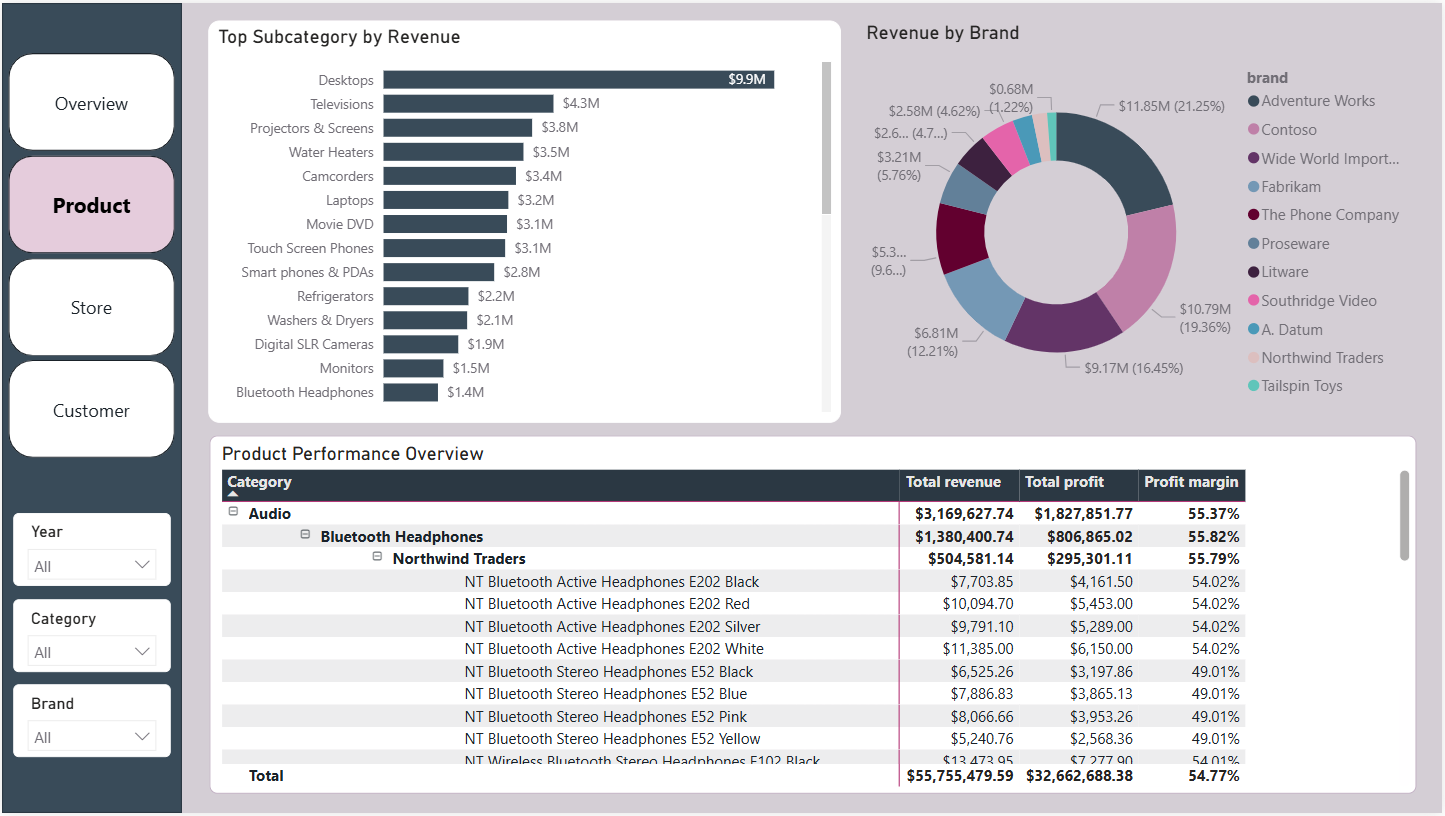

This screenshot's page, from the dashboard's own definition file:
{"tool":"powerbi","page":{"name":"Product","canvas":[1280,720],"ordinal":1},"visuals":[{"type":"shape","box":[0,0,160,720],"z":0},{"type":"slicer","fields":{"Values":["YearTable.order_year"]},"box":[10.1,453.8,140,64.4],"z":1000},{"type":"donutChart","title":"Revenue by Brand","fields":{"Category":["product_sum.brand"],"Y":["Sum(product_sum.revenue_of_goods)"]},"box":[763,15,494,358],"z":2000},{"type":"pivotTable","title":"Product Performance Overview","fields":{"Rows":["product_sum.category","product_sum.subcategory","product_sum.brand","product_sum.product_name"],"Values":["Sum(product_sum.revenue_of_goods)","Sum(product_sum.profit)","Avg(product_sum.profit_margin)"]},"box":[184,384,1073,318],"z":3000},{"type":"slicer","fields":{"Values":["product_sum.category"]},"box":[10.1,529.9,140,64.4],"z":4000},{"type":"slicer","fields":{"Values":["product_sum.brand"]},"box":[10.1,606,140,64.4],"z":5000},{"type":"barChart","title":"Top Subcategory by Revenue","fields":{"Y":["Sum(product_sum.revenue_of_goods)"],"Category":["product_sum.subcategory"]},"box":[183.8,15,562.5,357.5],"z":6000},{"type":"pageNavigator","box":[5.6,44.4,148.9,362.2],"z":7000}]}

Visuals, with their boxes on the page's 1280x720 design canvas (x1, y1, x2, y2). These are canvas units, not pixel positions in the 1445x816 screenshot, which may show the page scaled, cropped or inside an application window:
shape: [0, 0, 160, 720]
slicer - YearTable.order_year: [10, 454, 150, 518]
"Revenue by Brand" donutChart: [763, 15, 1257, 373]
"Product Performance Overview" pivotTable: [184, 384, 1257, 702]
slicer - product_sum.category: [10, 530, 150, 594]
slicer - product_sum.brand: [10, 606, 150, 670]
"Top Subcategory by Revenue" barChart: [184, 15, 746, 372]
pageNavigator: [6, 44, 154, 407]
